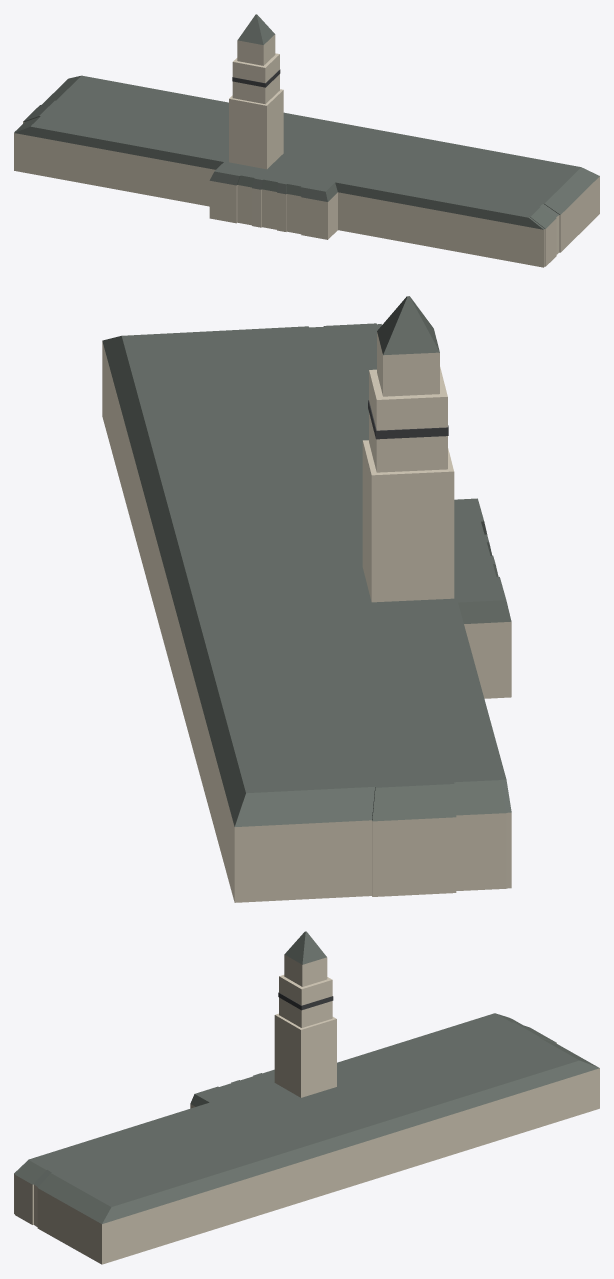
File: ferry-building_lod0.glb
3 renders of one model, top to bottom at view 1: azimuth 30°, elevation 25°; view 2: azimuth 150°, elevation 25°; view 3: azimuth 270°, elevation 25°, orthographic. The views are drawn at different scales.
Visible parts, largest first — view 1: ferry-building_lod0_roof, ferry-building_lod0_stone; view 2: ferry-building_lod0_roof, ferry-building_lod0_stone, ferry-building_lod0_dark; view 3: ferry-building_lod0_roof, ferry-building_lod0_stone.
Boxes of the visible parts, left/top/right/bottom form: ferry-building_lod0_roof: left=14, top=14, right=599, bottom=229; ferry-building_lod0_stone: left=14, top=34, right=599, bottom=267; ferry-building_lod0_roof: left=102, top=296, right=511, bottom=826; ferry-building_lod0_stone: left=102, top=332, right=511, bottom=902; ferry-building_lod0_dark: left=368, top=400, right=448, bottom=439; ferry-building_lod0_roof: left=14, top=931, right=599, bottom=1223; ferry-building_lod0_stone: left=14, top=954, right=599, bottom=1264.
Bounding box in the file's own units: 160 × 73.29 × 191.
